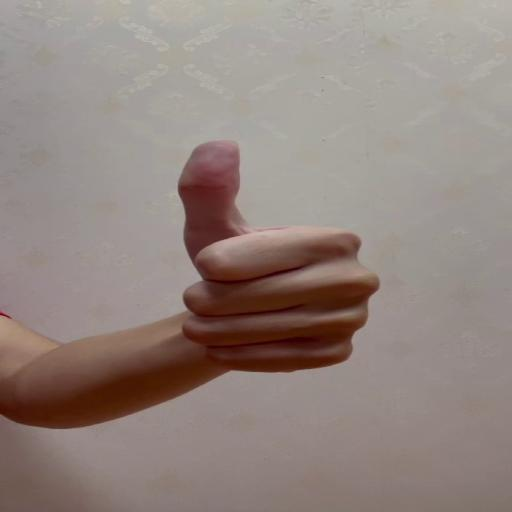thumbs_up: (172, 139, 384, 374)
